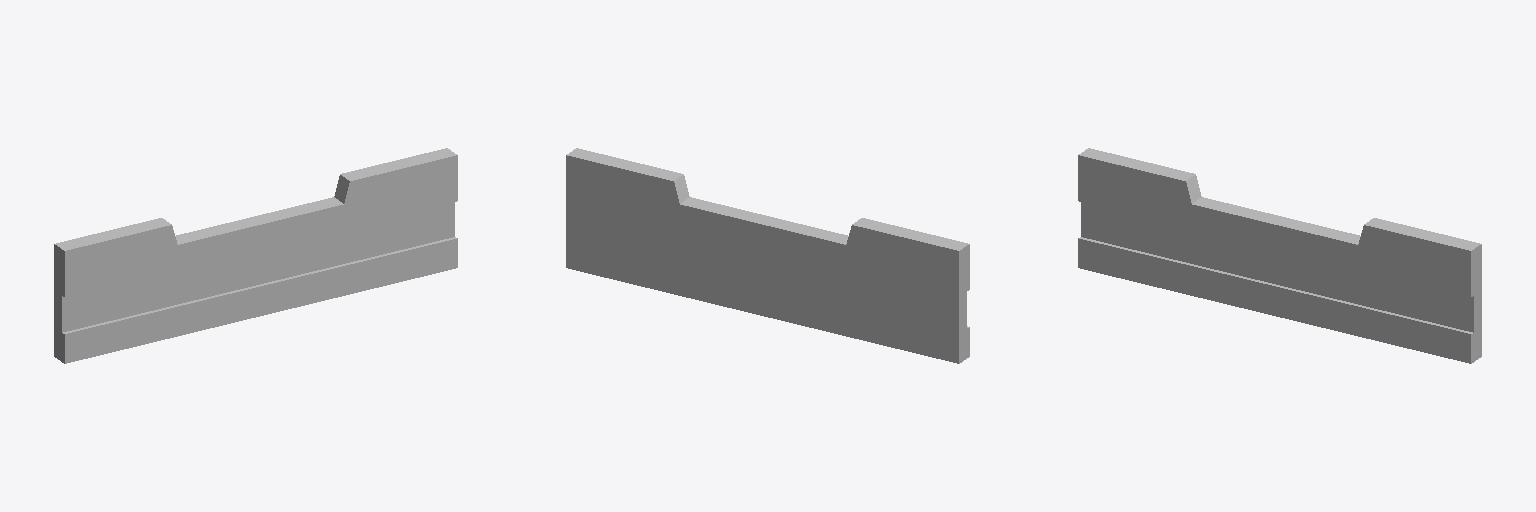
Rendered from celosia.OBJ.
3 renders of one model, left to right at view 1: azimuth 30°, elevation 25°; view 2: azimuth 150°, elevation 25°; view 3: azimuth 330°, elevation 25°, orthographic.
Parts seen in each view (by area): view 1: Group15572; view 2: Group15572; view 3: Group15572.
Boxes of the visible parts, x1,y1,x2,y2 form: Group15572: [54, 148, 457, 363]; Group15572: [566, 148, 969, 363]; Group15572: [1078, 148, 1481, 363].
Bounding box in the file's own units: 5.5 × 1.51 × 0.2438.